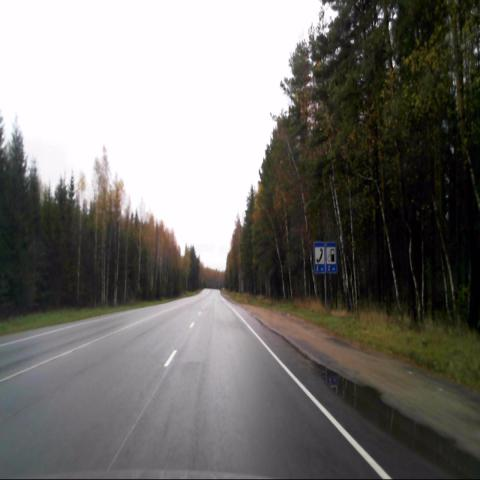7_6: (314, 241, 325, 275)
